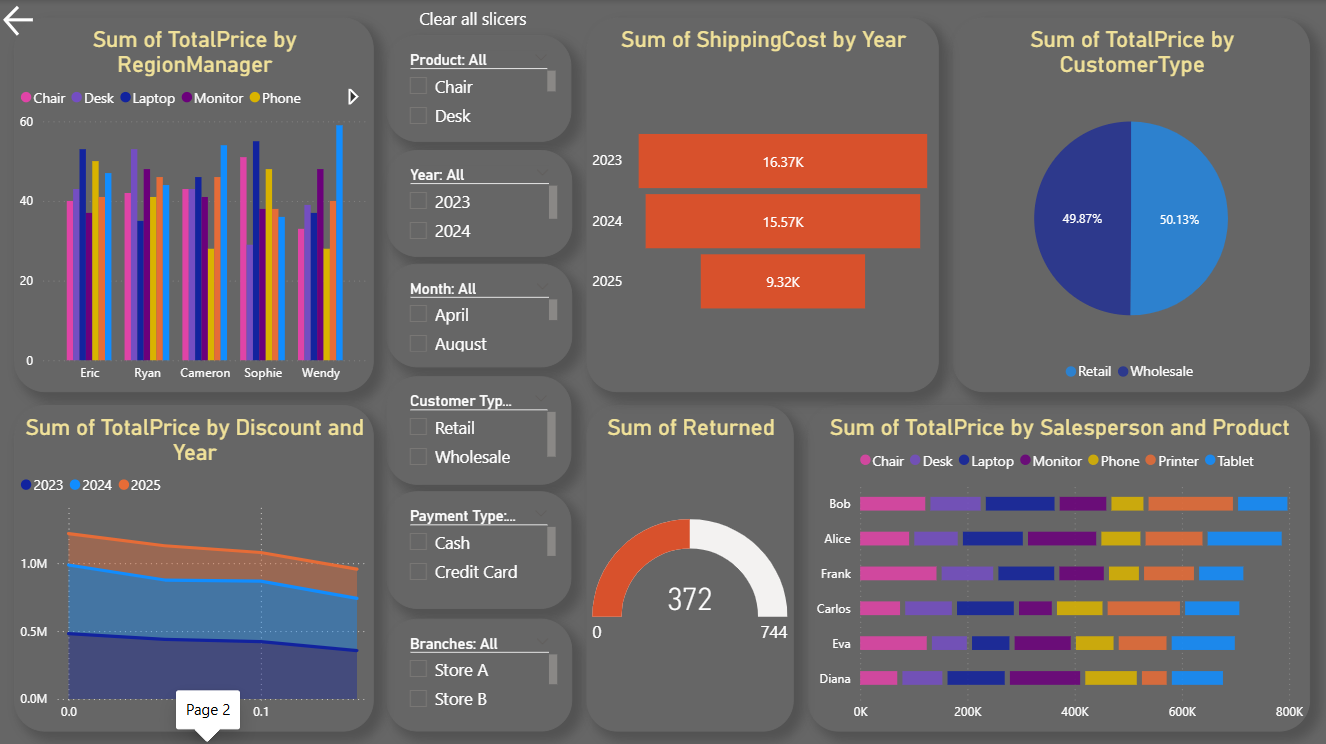

The dashboard page shown, as its layout file describes it:
{"tool":"powerbi","page":{"name":"Page 2","canvas":[1280,720],"ordinal":1},"visuals":[{"type":"group","id":"g1","title":"Group 1","box":[374.3,33.8,179.6,671.4],"z":0},{"type":"slicer","fields":{"Values":["Sheet1.Product"]},"box":[374.3,33.8,178.2,103.1],"z":0,"group":"g1"},{"type":"slicer","fields":{"Values":["Sheet1.Year"]},"box":[374.3,145,179.6,103.1],"z":1000,"group":"g1"},{"type":"barChart","fields":{"Y":["Sum(Sheet1.TotalPrice)"],"Series":["Sheet1.Product"],"Category":["Sheet1.Salesperson"]},"box":[780.6,390.9,485,314.9],"z":1000},{"type":"clusteredColumnChart","title":"Sum of TotalPrice by RegionManager","fields":{"Category":["Sheet1.RegionManager"],"Y":["CountNonNull(Sheet1.TotalPrice)"],"Series":["Sheet1.Product"]},"box":[14.5,16.9,347.5,361.9],"z":2000},{"type":"slicer","fields":{"Values":["Sheet1.Month"]},"box":[374.3,254.9,179.6,100.4],"z":2000,"group":"g1"},{"type":"pieChart","fields":{"Category":["Sheet1.CustomerType"],"Y":["Sum(Sheet1.TotalPrice)"]},"box":[920.5,16.9,345,361.9],"z":3000},{"type":"slicer","fields":{"Values":["Sheet1.CustomerType"]},"box":[374.3,363.4,178.2,104.4],"z":3000,"group":"g1"},{"type":"gauge","fields":{"Y":["Sum(Sheet1.Returned)"]},"box":[567,390.9,200.3,314.9],"z":4000},{"type":"slicer","fields":{"Values":["Sheet1.PaymentMethod"]},"box":[374.3,474.6,178.2,113.9],"z":4000,"group":"g1"},{"type":"funnel","fields":{"Category":["Sheet1.Year"],"Y":["Sum(Sheet1.ShippingCost)"]},"box":[567,16.9,340.2,361.9],"z":5000},{"type":"slicer","fields":{"Values":["Sheet1.StoreLocation"]},"box":[374.3,596.7,179.6,108.5],"z":5000,"group":"g1"},{"type":"stackedAreaChart","fields":{"Category":["Sheet1.Discount"],"Series":["Sheet1.Year"],"Y":["Sum(Sheet1.TotalPrice)"]},"box":[14.5,390.9,347.5,314.9],"z":6000},{"type":"actionButton","box":[357.1,0,200.3,33.8],"z":7000},{"type":"actionButton","box":[0,0,38.6,39.8],"z":8001}]}

Visuals, with their boxes in screenshot pixels (x1, y1, x2, y2), scaled from the page's 1280x720 canvas onto the 1326x744 screenshot:
"Group 1" group: {"left": 388, "top": 35, "right": 574, "bottom": 729}
slicer - Sheet1.Product: {"left": 388, "top": 35, "right": 572, "bottom": 141}
slicer - Sheet1.Year: {"left": 388, "top": 150, "right": 574, "bottom": 256}
barChart - Sum(Sheet1.TotalPrice) x Sheet1.Product: {"left": 809, "top": 404, "right": 1311, "bottom": 729}
"Sum of TotalPrice by RegionManager" clusteredColumnChart: {"left": 15, "top": 17, "right": 375, "bottom": 391}
slicer - Sheet1.Month: {"left": 388, "top": 263, "right": 574, "bottom": 367}
pieChart - Sheet1.CustomerType x Sum(Sheet1.TotalPrice): {"left": 954, "top": 17, "right": 1311, "bottom": 391}
slicer - Sheet1.CustomerType: {"left": 388, "top": 376, "right": 572, "bottom": 483}
gauge - Sum(Sheet1.Returned): {"left": 587, "top": 404, "right": 795, "bottom": 729}
slicer - Sheet1.PaymentMethod: {"left": 388, "top": 490, "right": 572, "bottom": 608}
funnel - Sheet1.Year x Sum(Sheet1.ShippingCost): {"left": 587, "top": 17, "right": 940, "bottom": 391}
slicer - Sheet1.StoreLocation: {"left": 388, "top": 617, "right": 574, "bottom": 729}
stackedAreaChart - Sheet1.Discount x Sheet1.Year: {"left": 15, "top": 404, "right": 375, "bottom": 729}
actionButton: {"left": 370, "top": 0, "right": 577, "bottom": 35}
actionButton: {"left": 0, "top": 0, "right": 40, "bottom": 41}
